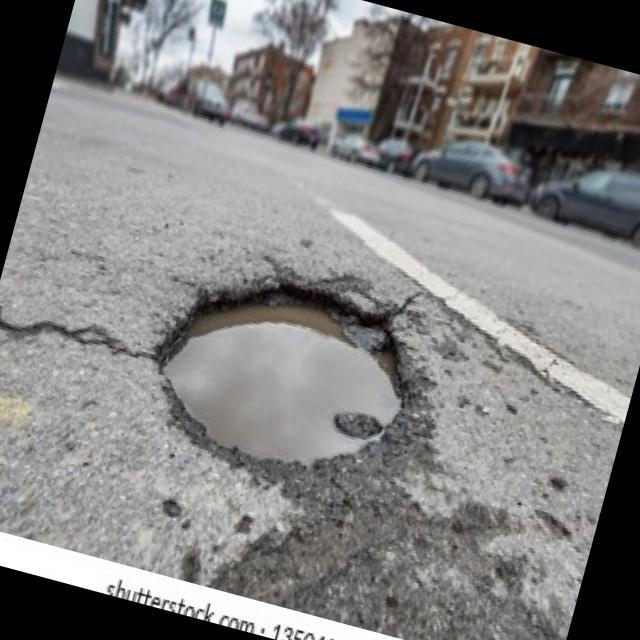Pothole: (136, 247, 434, 492)
